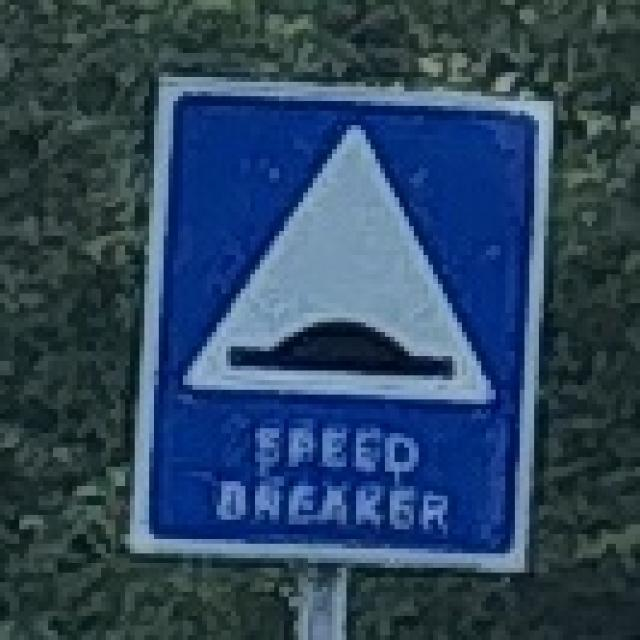HUMP_OR_ROUGH_ROAD: (143, 73, 547, 573)
